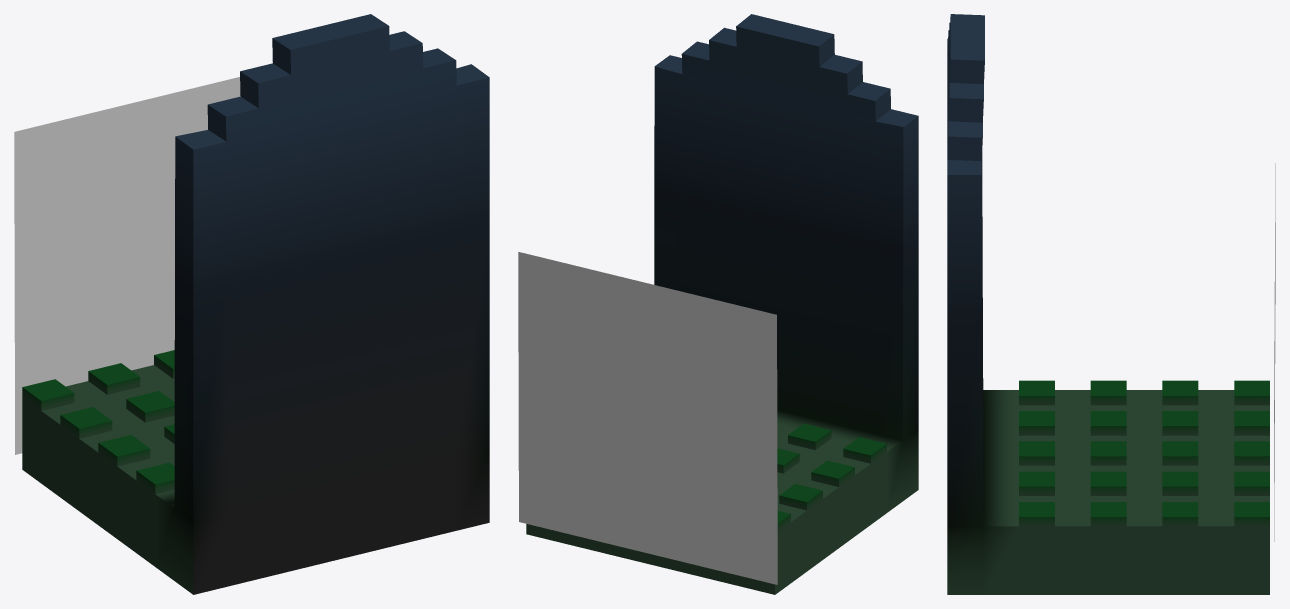
The model's file is UnitSelectorSlot.fbx.
3 renders of one model, left to right at view 1: azimuth 30°, elevation 25°; view 2: azimuth 150°, elevation 25°; view 3: azimuth 270°, elevation 25°, orthographic. The views are drawn at different scales.
Visible parts, largest first — view 1: UnitSelectorSlot, Display; view 2: UnitSelectorSlot, Display; view 3: UnitSelectorSlot, Display.
Part boxes in pixels (left/top/right/bottom): UnitSelectorSlot: left=22, top=14, right=489, bottom=594; Display: left=14, top=77, right=240, bottom=454; UnitSelectorSlot: left=526, top=14, right=918, bottom=594; Display: left=518, top=252, right=777, bottom=584; UnitSelectorSlot: left=947, top=14, right=1269, bottom=594; Display: left=1274, top=163, right=1275, bottom=541.
Size of the model in its own units: 130 by 209 by 127.
